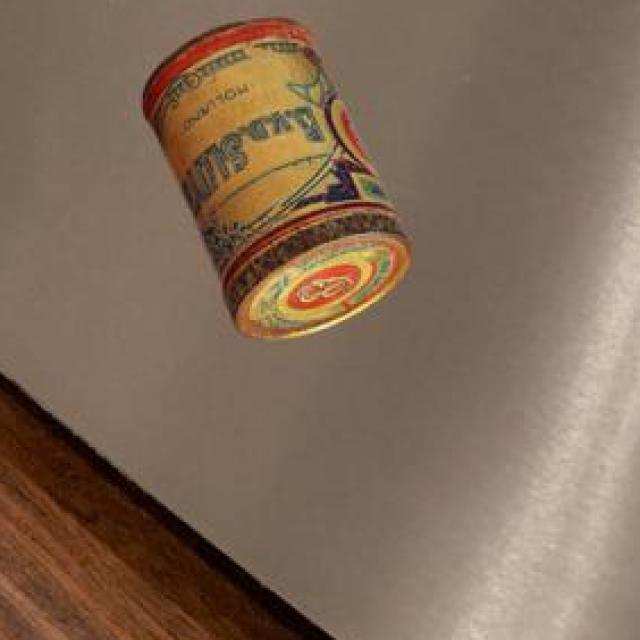logam: (140, 15, 410, 337)
